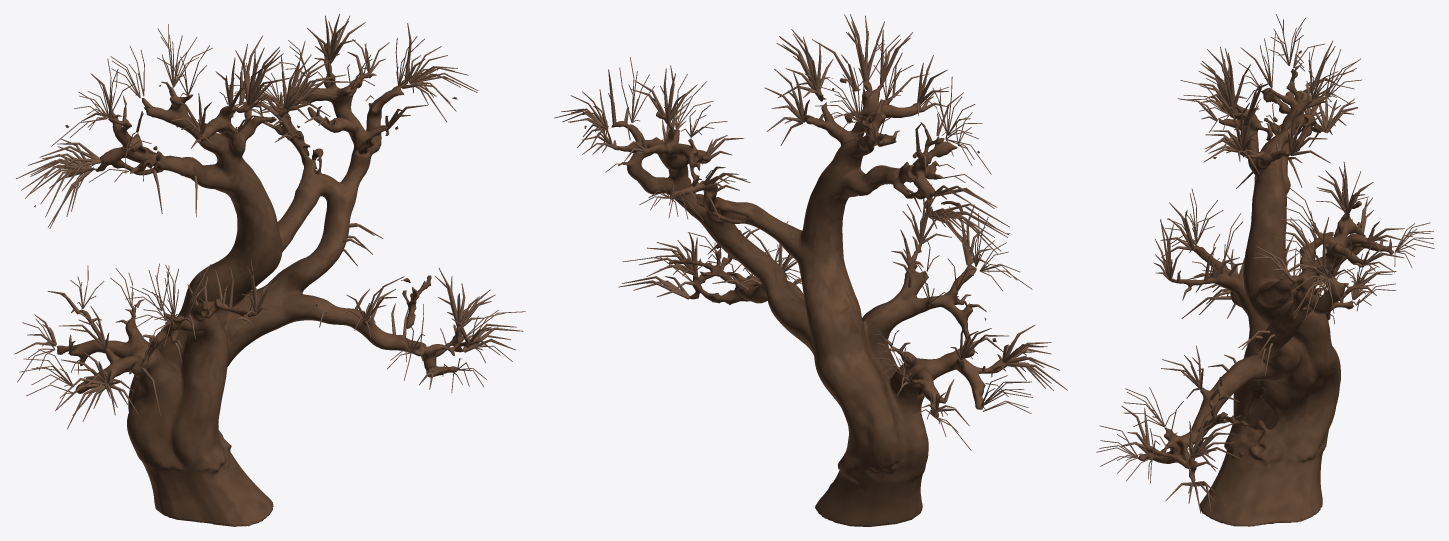
File: wood-Du8ENzss.glb
The picture shows the model from 3 angles, left to right: view 1: azimuth 30°, elevation 25°; view 2: azimuth 150°, elevation 25°; view 3: azimuth 270°, elevation 25°; orthographic projection.
Visible parts, largest first — view 1: Wood, Fine twigs; view 2: Wood, Fine twigs; view 3: Wood, Fine twigs.
Part boxes in pixels (box(x1,y1,x2,y2)): Wood: box(34, 43, 469, 526); Fine twigs: box(14, 14, 525, 429); Wood: box(584, 78, 1009, 526); Fine twigs: box(554, 14, 1067, 450); Wood: box(1138, 50, 1423, 526); Fine twigs: box(1096, 14, 1434, 513).
Bounding box in the file's own units: 5.64 × 5.36 × 3.6.
